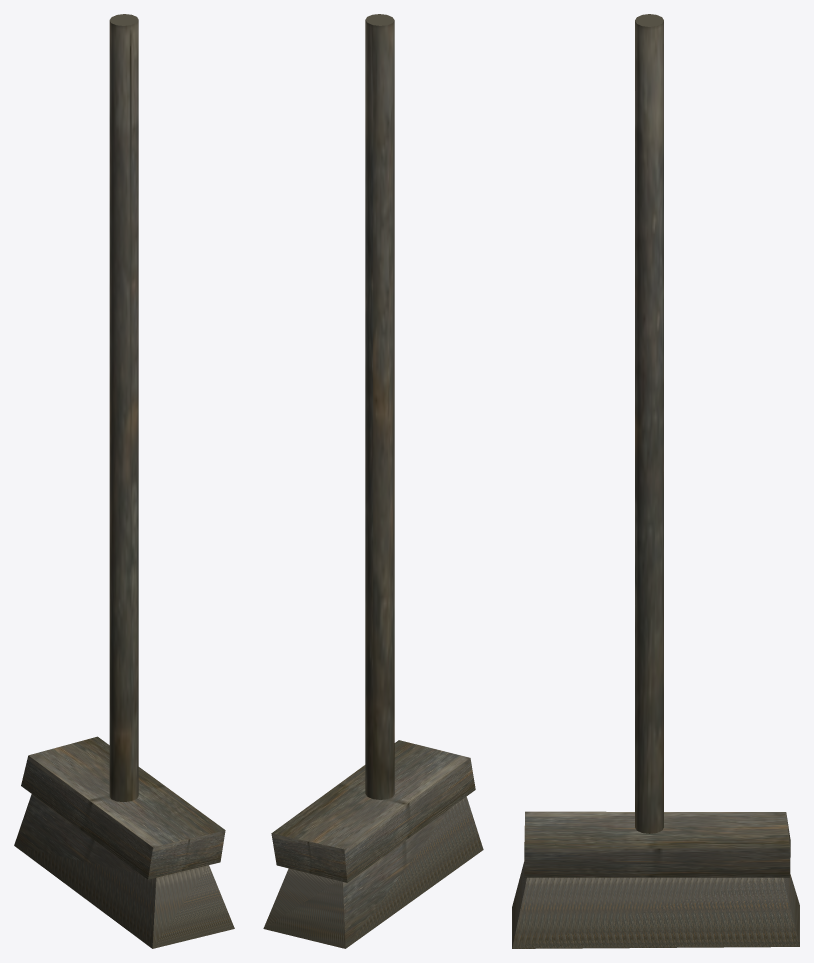
File: broom.glb
3 views of the same model, side by side, from view 1: azimuth 30°, elevation 25°; view 2: azimuth 150°, elevation 25°; view 3: azimuth 270°, elevation 25° (orthographic). The views are drawn at different scales.
Parts seen in each view (by area): view 1: broom.ms3d.mo; view 2: broom.ms3d.mo; view 3: broom.ms3d.mo.
Part boxes in pixels (left/top/right/bottom): broom.ms3d.mo: left=14, top=14, right=234, bottom=948; broom.ms3d.mo: left=263, top=14, right=483, bottom=948; broom.ms3d.mo: left=512, top=14, right=799, bottom=948.
Bounding box in the file's own units: 4 × 40.4 × 11.64.
Materials: 1 (1 with a texture image).
